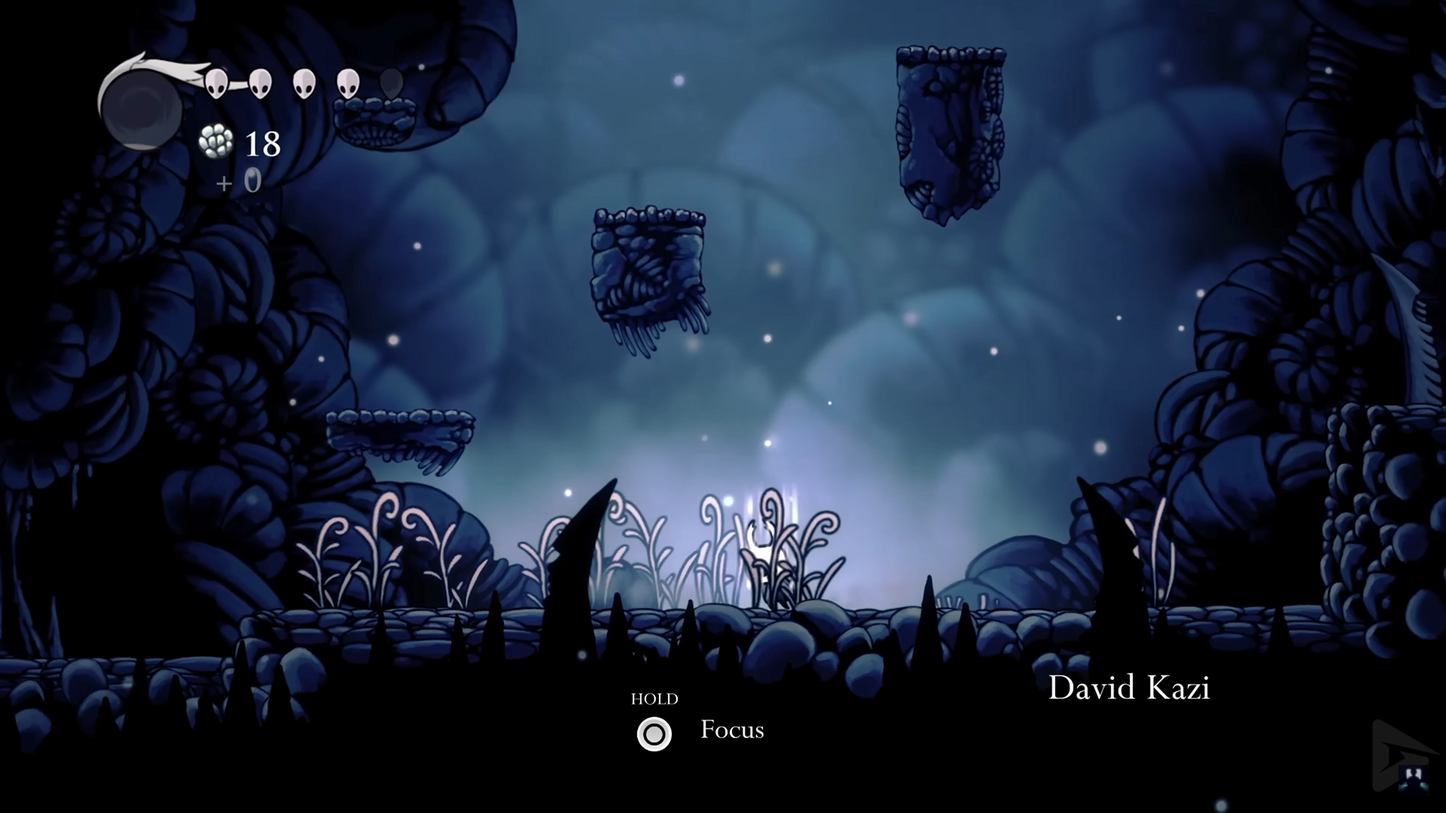HK: (735, 520, 805, 613)
